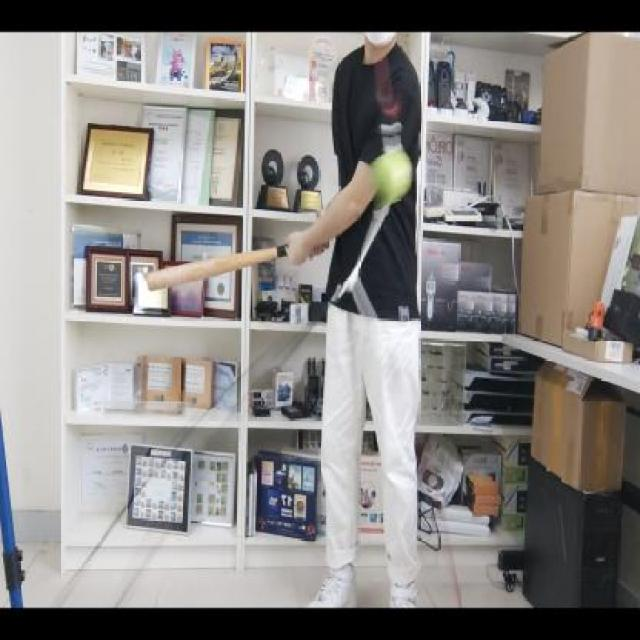baseball: (371, 150, 415, 202)
